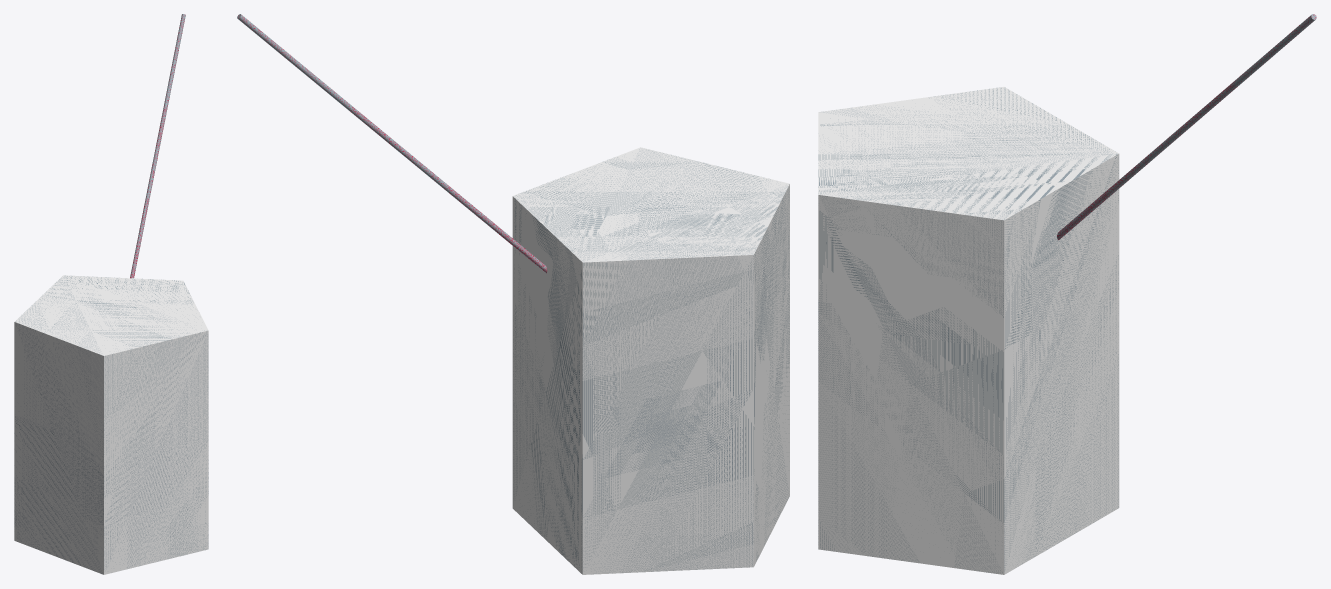
The model's file is 21iso.fbx.
3 renders of one model, left to right at view 1: azimuth 30°, elevation 25°; view 2: azimuth 150°, elevation 25°; view 3: azimuth 270°, elevation 25°, orthographic. The views are drawn at different scales.
Parts seen in each view (by area): view 1: Model; view 2: Model; view 3: Model.
Boxes of the visible parts, left/top/right/bottom form: Model: left=14, top=14, right=208, bottom=574; Model: left=237, top=14, right=789, bottom=574; Model: left=818, top=14, right=1316, bottom=574.
Size of the model in its own units: 7.65 by 10.76 by 7.65.
